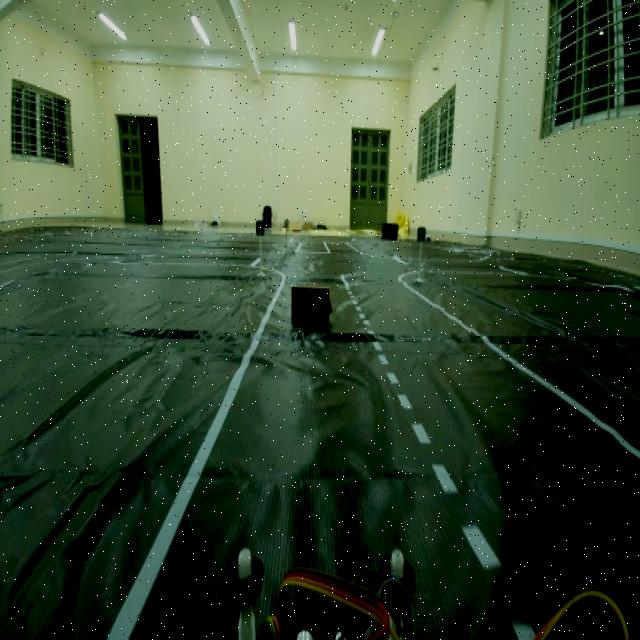roadblock: (289, 279, 338, 339)
